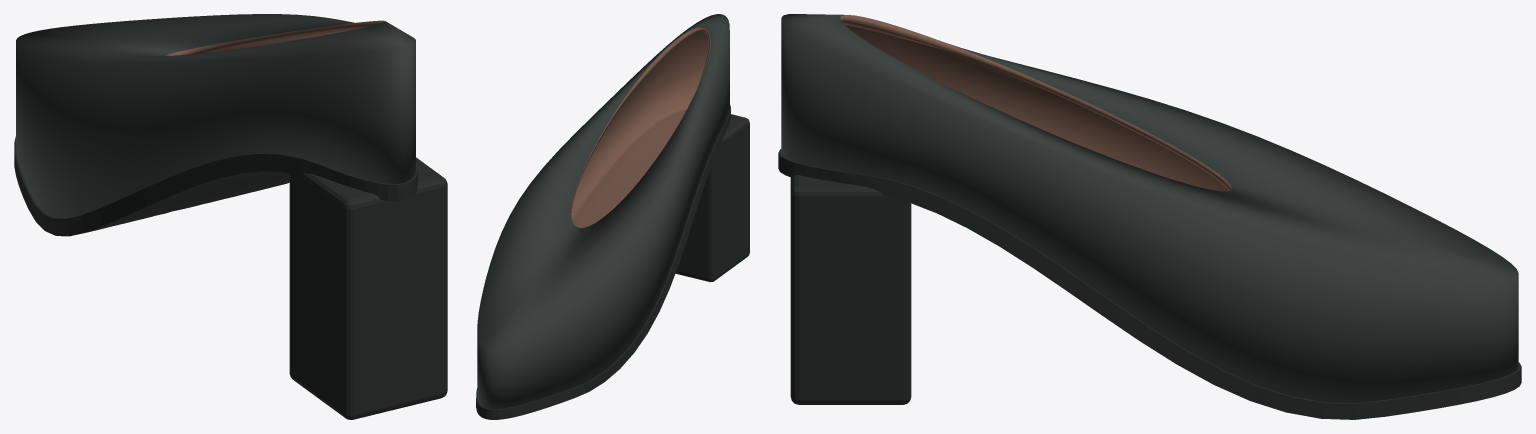
Rendered from A-NEW-20261027-HIGH-HEEL-001_LOD1_R4.fbx.
The picture shows the model from 3 angles, left to right: view 1: azimuth 30°, elevation 25°; view 2: azimuth 150°, elevation 25°; view 3: azimuth 270°, elevation 25°; orthographic projection. The views are drawn at different scales.
Visible parts, largest first — view 1: complete hollow shoe upper, tall supporting block heel, continuous sloping arch outsole; view 2: complete hollow shoe upper, tall supporting block heel, continuous sloping arch outsole; view 3: complete hollow shoe upper, tall supporting block heel, continuous sloping arch outsole.
Boxes of the visible parts, left/top/right/bottom form: complete hollow shoe upper: left=16, top=14, right=415, bottom=218; tall supporting block heel: left=289, top=157, right=447, bottom=419; continuous sloping arch outsole: left=14, top=136, right=417, bottom=236; complete hollow shoe upper: left=477, top=14, right=729, bottom=408; tall supporting block heel: left=675, top=114, right=749, bottom=282; continuous sloping arch outsole: left=476, top=105, right=730, bottom=419; complete hollow shoe upper: left=781, top=14, right=1518, bottom=403; tall supporting block heel: left=790, top=175, right=911, bottom=404; continuous sloping arch outsole: left=778, top=149, right=1521, bottom=419.
Size of the model in its own units: 8.58 by 15 by 27.72.
